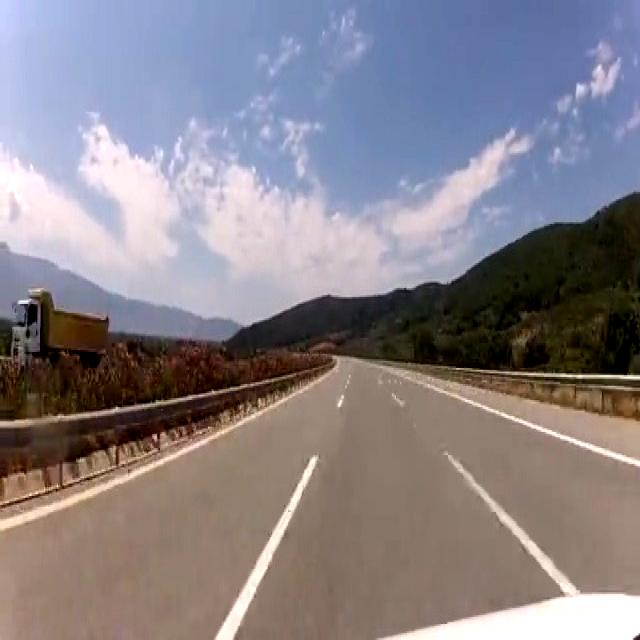lane: (1, 412, 264, 532), (406, 377, 640, 468), (445, 451, 578, 594), (215, 457, 315, 639)
road: (1, 358, 639, 639)
